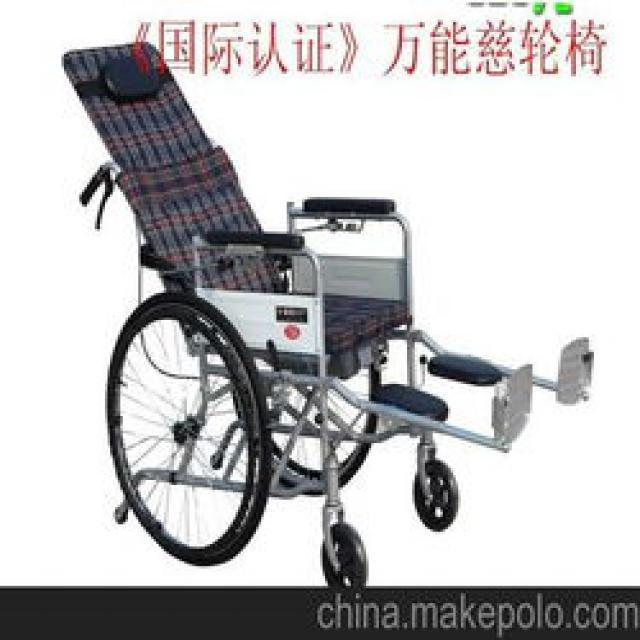wheelchair: (41, 39, 607, 576)
